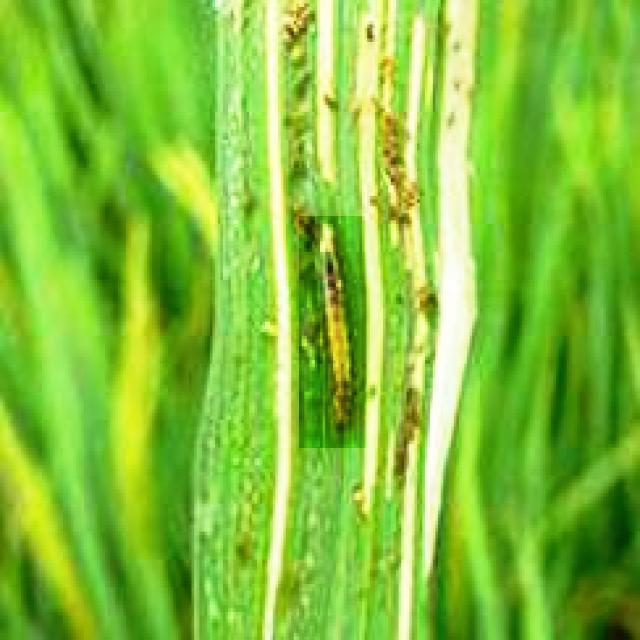leaf-folder: (299, 216, 366, 448)
